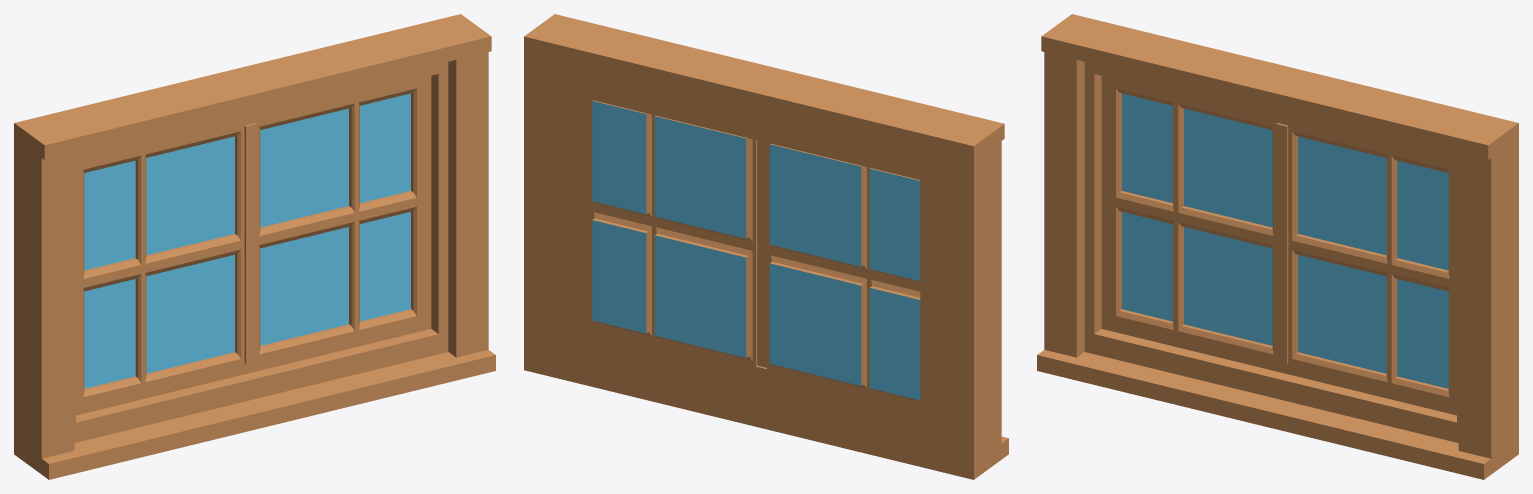
Rendered from Window4DoubleCadre.fbx.
The picture shows the model from 3 angles, left to right: view 1: azimuth 30°, elevation 25°; view 2: azimuth 150°, elevation 25°; view 3: azimuth 330°, elevation 25°; orthographic projection.
Parts seen in each view (by area): view 1: Window4DoubleCadre; view 2: Window4DoubleCadre; view 3: Window4DoubleCadre.
Part boxes in pixels (x1,y1,x2,y2): Window4DoubleCadre: [14, 14, 495, 479]; Window4DoubleCadre: [524, 14, 1008, 479]; Window4DoubleCadre: [1037, 14, 1518, 479].
Bounding box in the file's own units: 4.33 × 0.5849 × 3.07.
